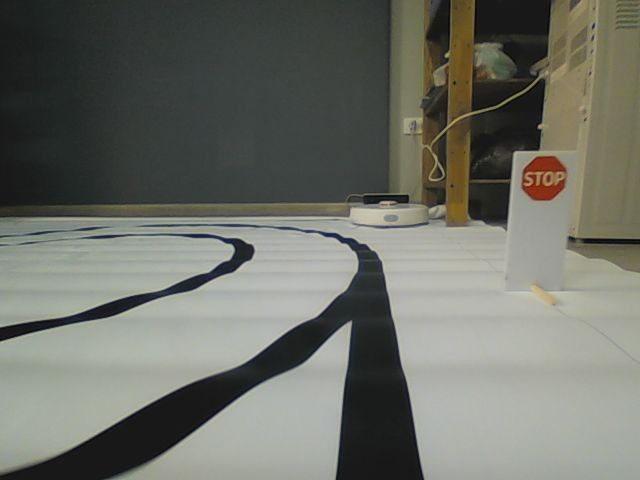Stop: (520, 154, 568, 203)
